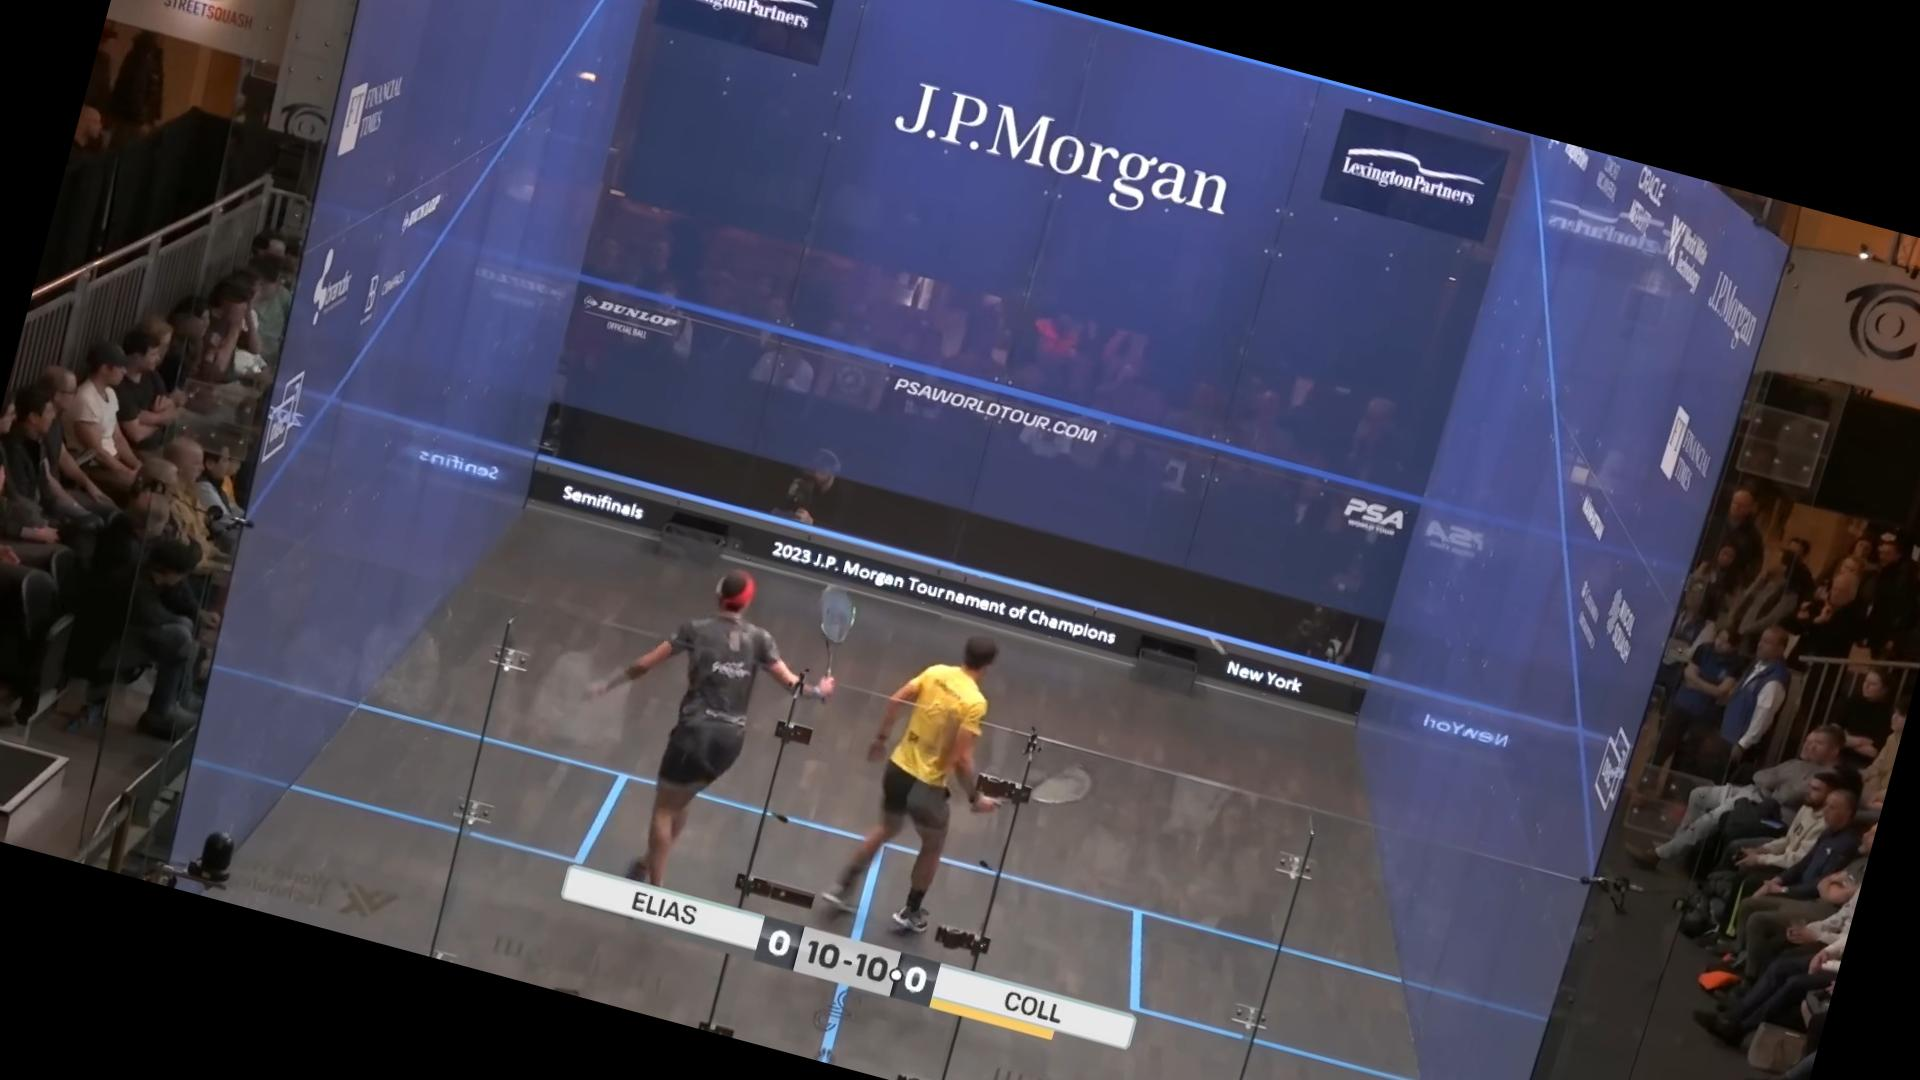Racket: (782, 556, 876, 690), (1001, 748, 1097, 825)
